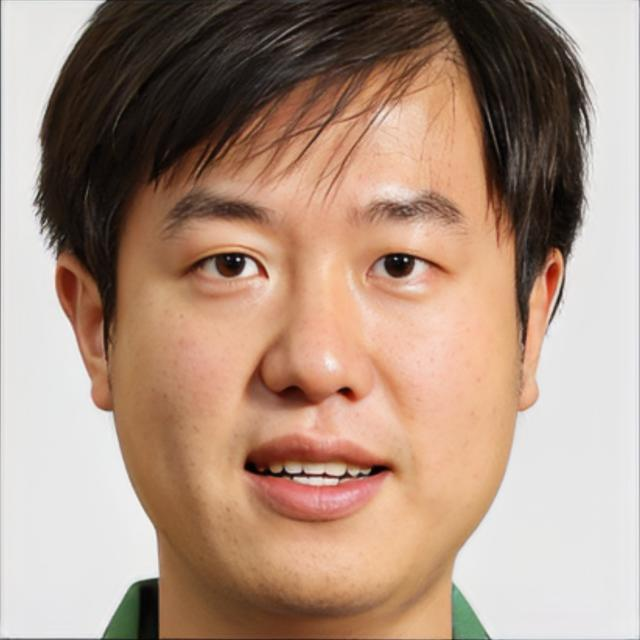surprise: (110, 1, 520, 618)
